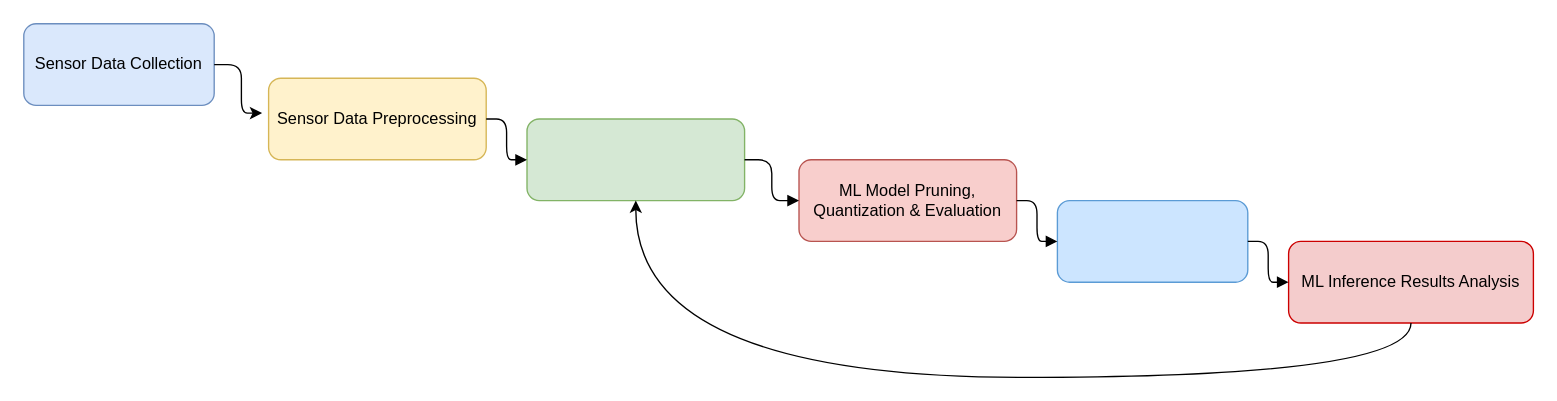
Some shapes in this 1557 by 401 pixel diagram are drawn without their labels. Each missing label, with the centre of its shape:
"ML Model Building" goes at point (635, 159).
"TinyML Model Deployment" goes at point (1152, 240).
